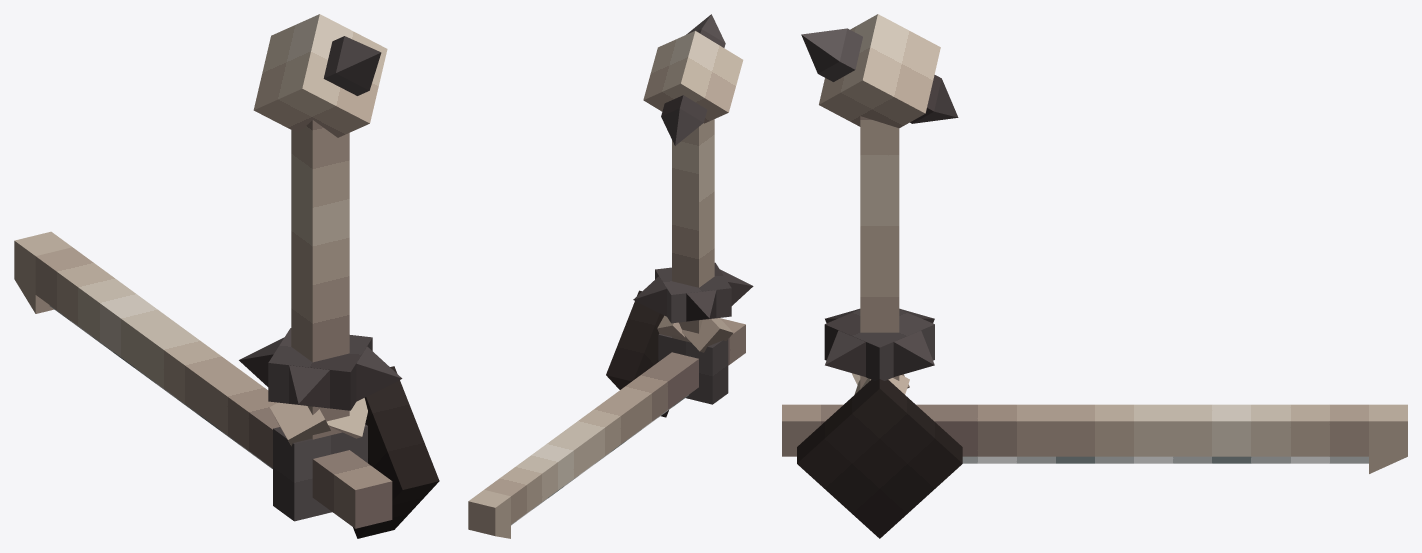
File: arm_fisher_r.obj
3 views of the same model, side by side, from view 1: azimuth 30°, elevation 25°; view 2: azimuth 150°, elevation 25°; view 3: azimuth 270°, elevation 25° (orthographic). The views are drawn at different scales.
Parts seen in each view (by area): view 1: ARM_RIGHT_BONE_FISHER_Cube.450; view 2: ARM_RIGHT_BONE_FISHER_Cube.450; view 3: ARM_RIGHT_BONE_FISHER_Cube.450.
Part boxes in pixels (left/top/right/bottom): ARM_RIGHT_BONE_FISHER_Cube.450: left=14, top=14, right=439, bottom=538; ARM_RIGHT_BONE_FISHER_Cube.450: left=468, top=14, right=753, bottom=538; ARM_RIGHT_BONE_FISHER_Cube.450: left=782, top=14, right=1407, bottom=538.
Bounding box in the file's own units: 0.2226 × 0.8658 × 1.
